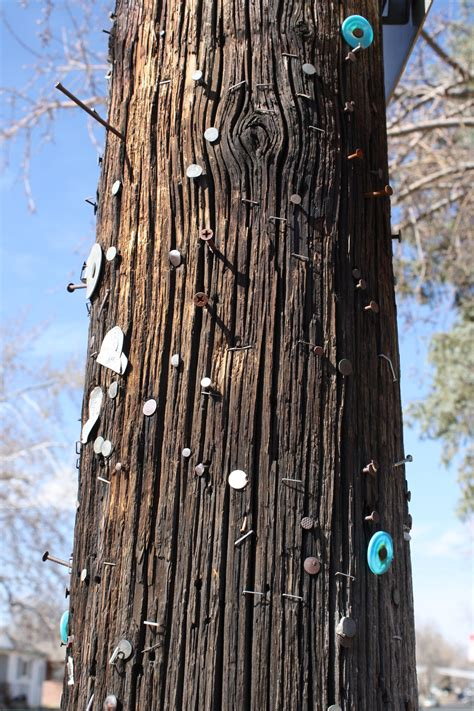pole: (48, 2, 444, 711)
